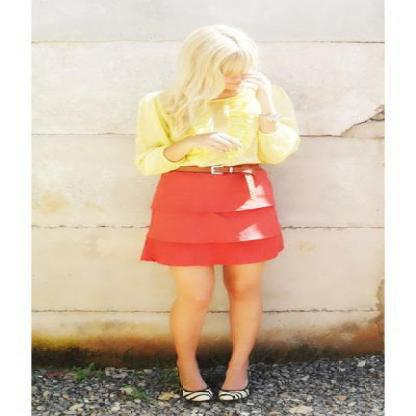shirt: (152, 84, 299, 174)
shoe: (188, 391, 245, 415)
skirt: (140, 164, 286, 269)
